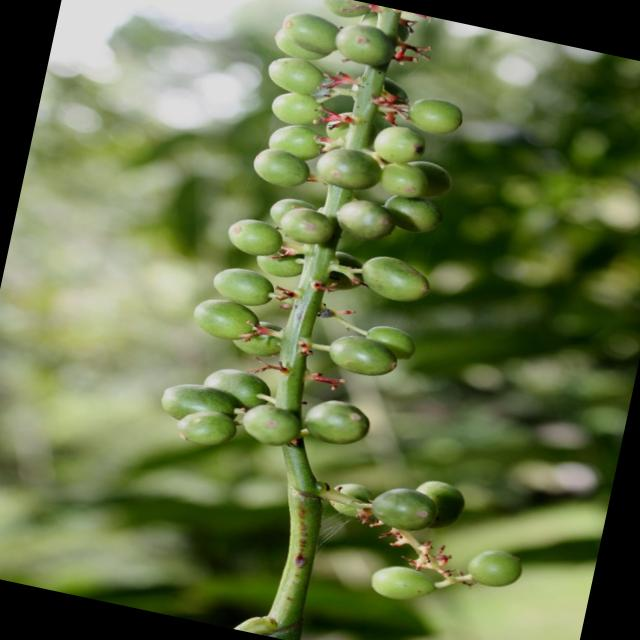Aquatic-Ginger: (128, 0, 626, 629)
